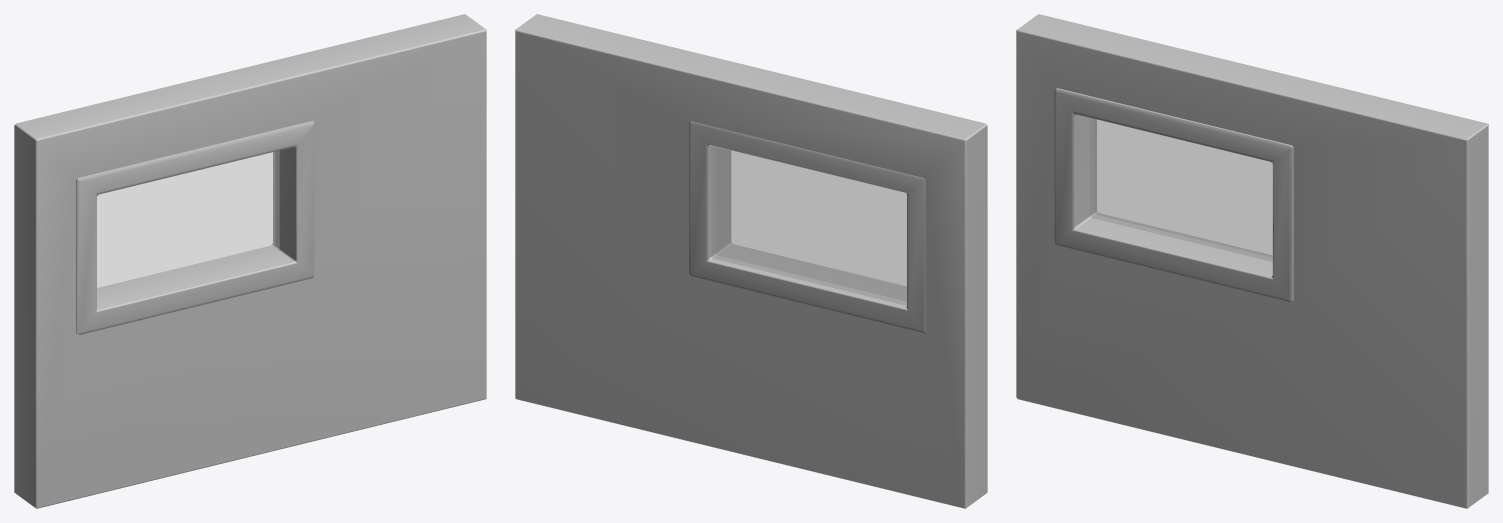
The model's file is Wall_40.fbx.
3 renders of one model, left to right at view 1: azimuth 30°, elevation 25°; view 2: azimuth 150°, elevation 25°; view 3: azimuth 330°, elevation 25°, orthographic.
Parts seen in each view (by area): view 1: Wall_40; view 2: Wall_40; view 3: Wall_40.
Boxes of the visible parts, <box> form: Wall_40: <box>14,14,486,508</box>; Wall_40: <box>515,14,987,508</box>; Wall_40: <box>1016,14,1488,508</box>.
Bounding box in the file's own units: 460 × 360 × 43.1.
